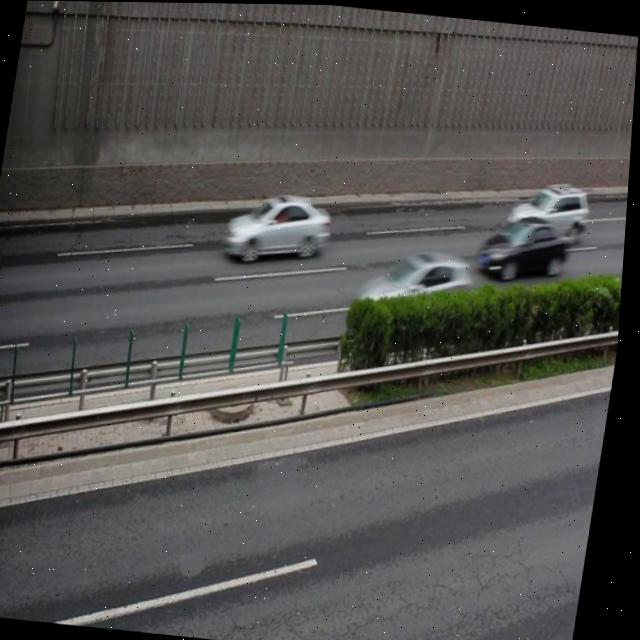car: (358, 245, 479, 324), (224, 186, 335, 270), (477, 210, 571, 282), (509, 175, 595, 246)
